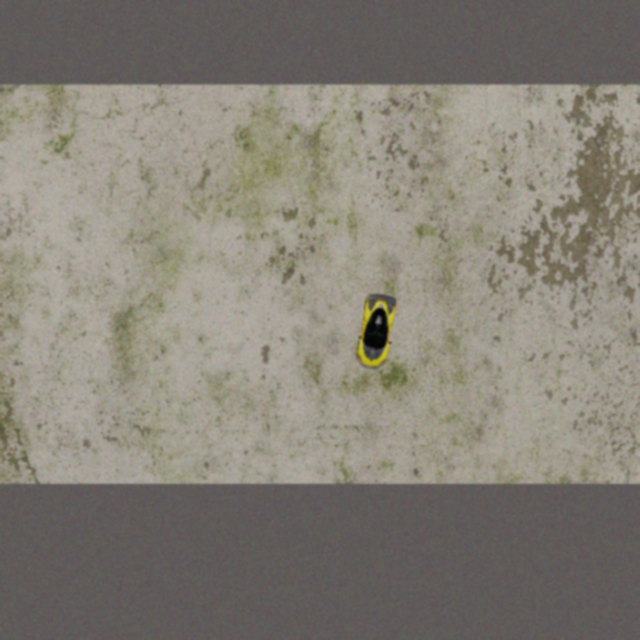car: (353, 291, 400, 371)
